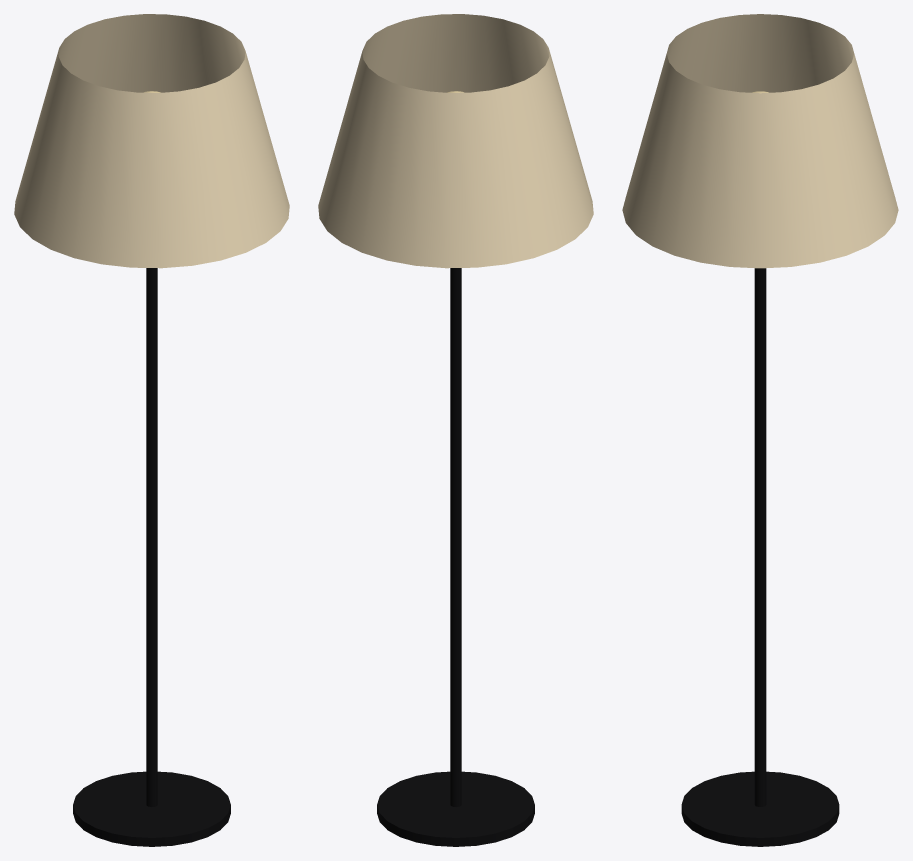
Rendered from Lamp_Floor.fbx.
3 views of the same model, side by side, from view 1: azimuth 30°, elevation 25°; view 2: azimuth 150°, elevation 25°; view 3: azimuth 270°, elevation 25° (orthographic).
Parts seen in each view (by area): view 1: Lamp_Floor; view 2: Lamp_Floor; view 3: Lamp_Floor.
Part boxes in pixels (x1,y1,x2,y2): Lamp_Floor: [14, 14, 289, 846]; Lamp_Floor: [318, 14, 593, 846]; Lamp_Floor: [622, 14, 898, 846].
Bounding box in the file's own units: 0.56 × 0.56 × 1.7.
